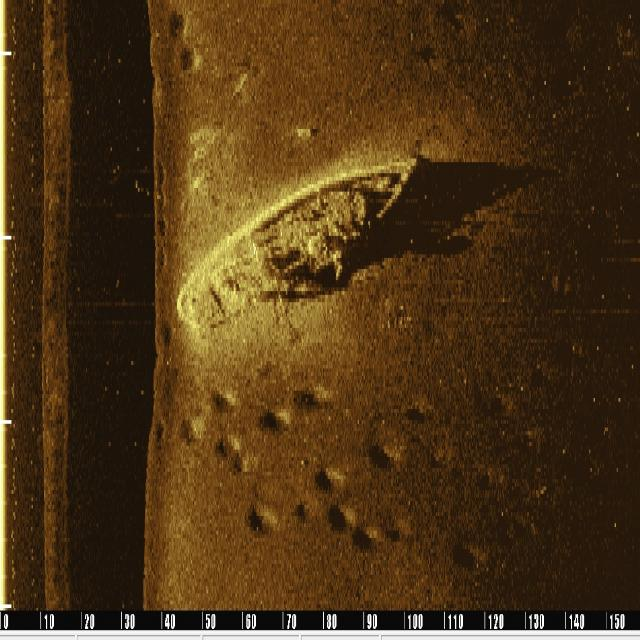ship: (177, 149, 420, 329)
